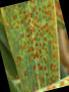Wheat: (22, 12, 54, 88)
